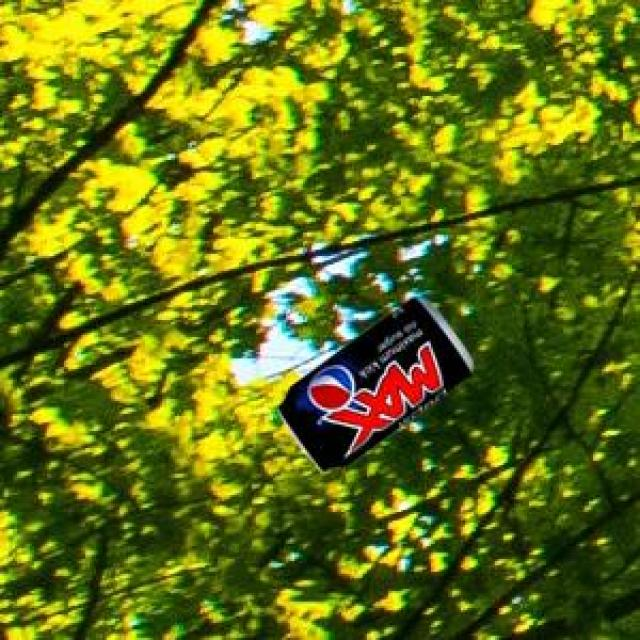logam: (276, 295, 470, 468)
